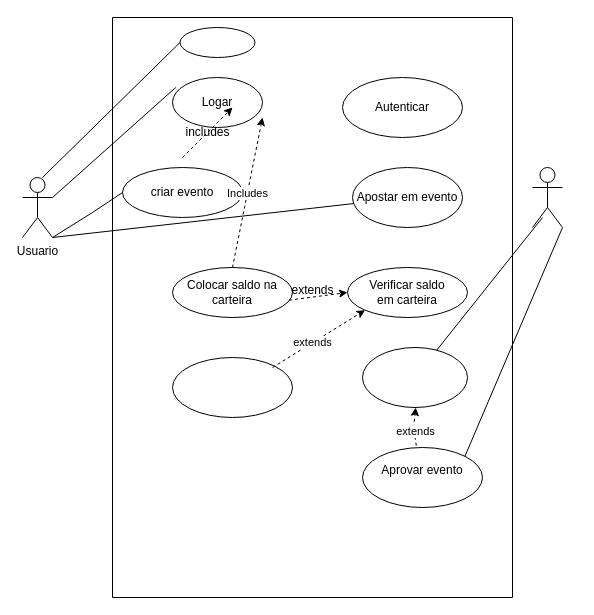
The diagram is 594 pixels wide and 615 high, and some of its shapes have lost their labels. The shapes that lost their labels are listed below. From the top down, each one's box as (x1, y1, x2, y2) in pixels, then its label:
(179, 26, 255, 58): Cadastrar
(532, 166, 562, 228): Moderador
(172, 356, 292, 418): Retirar saldo na carteira
(362, 346, 468, 408): Avaliar eventos
